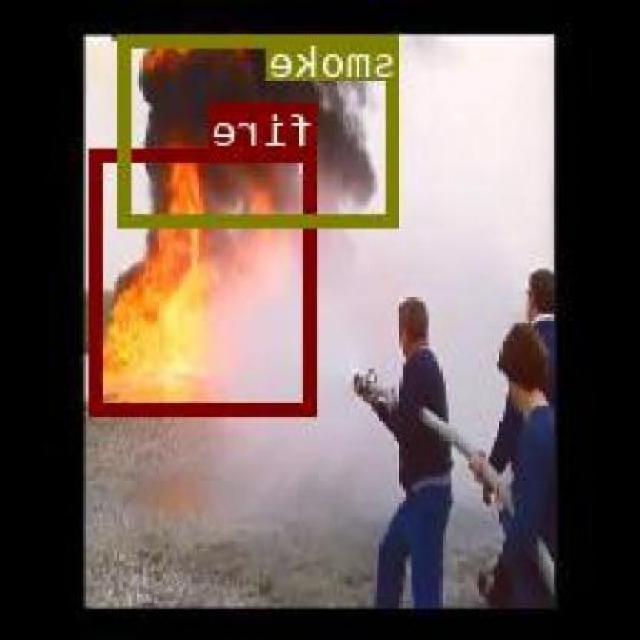Fire: (93, 146, 319, 414)
Smoke: (122, 32, 401, 226)
